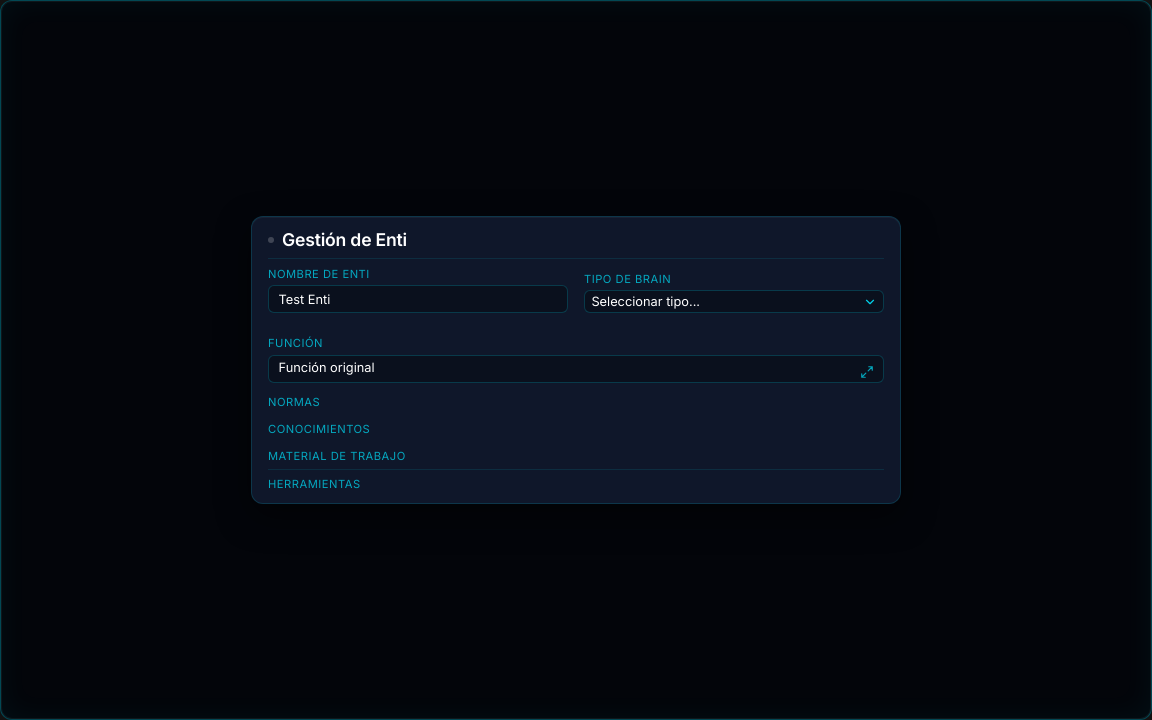
Workspace Cognitive Config Integration (FIA-016) › TEST-FIA016-03: configuración cloud/openai muestra apiKey opcional como dato sensible/inert
This screenshot has width=1152, height=720.
Click the element with test id "input-cognitive-mode": coordinates (734, 302) [584,290,884,313]
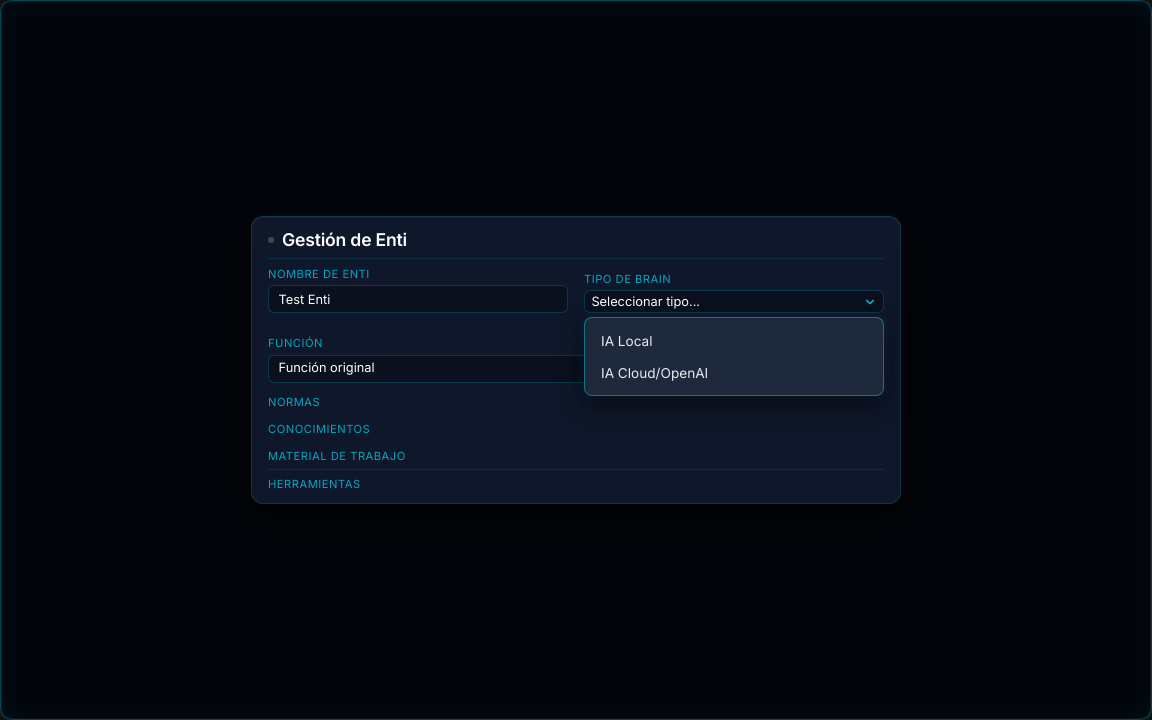
Click the list item with test id "option-cloud": coordinates (655, 373) [601,365,708,381]
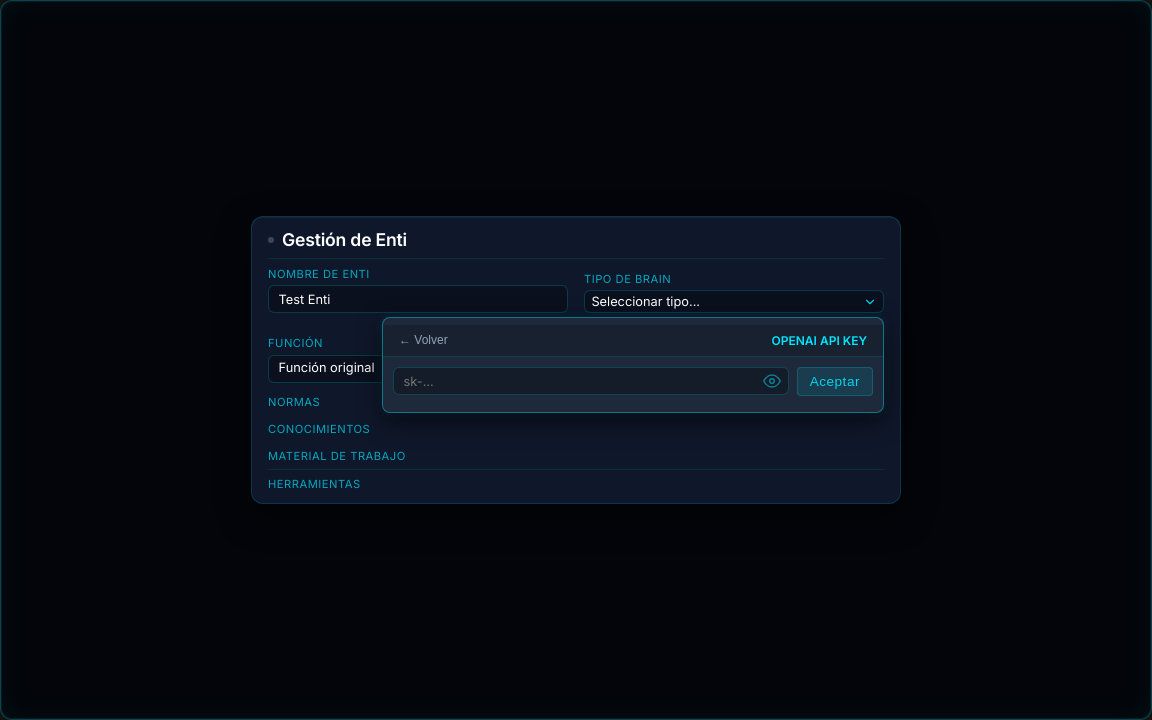
Now the element with test id "cloud-api-key-block" is shown, box [383,325,883,406]
